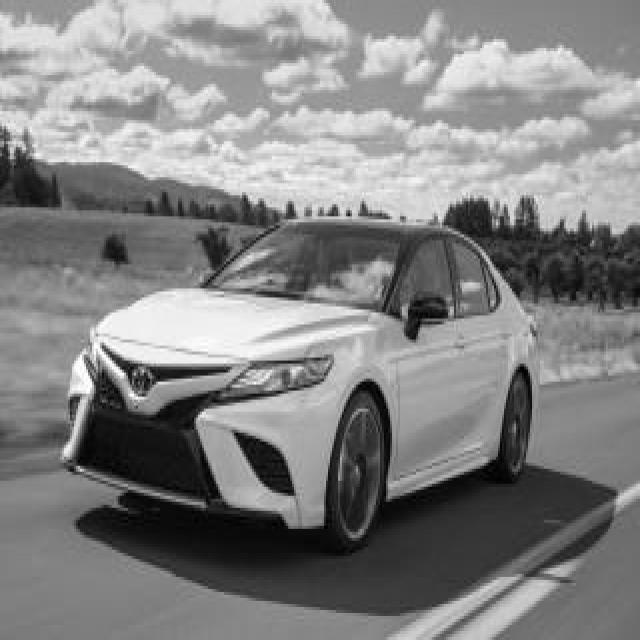Car: (62, 223, 539, 550)
